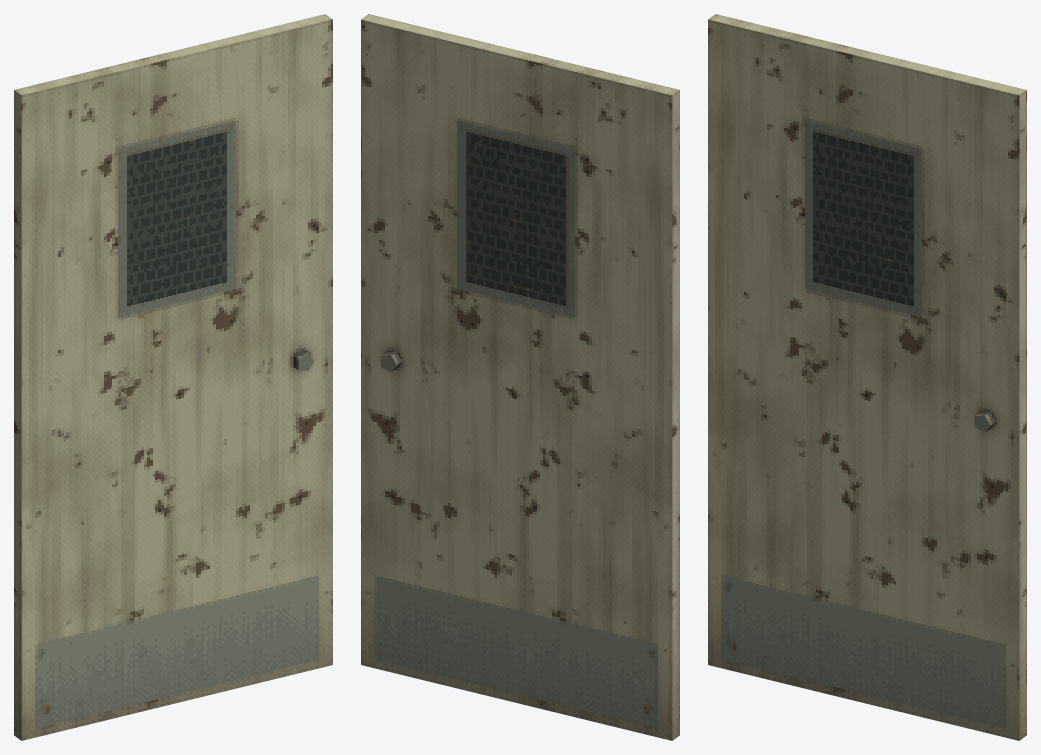
File: Door_Ward_01.glb
3 views of the same model, side by side, from view 1: azimuth 30°, elevation 25°; view 2: azimuth 150°, elevation 25°; view 3: azimuth 330°, elevation 25° (orthographic).
Parts seen in each view (by area): view 1: Door_Ward_01; view 2: Door_Ward_01; view 3: Door_Ward_01.
Boxes of the visible parts, <box> form: Door_Ward_01: <box>14,14,332,740</box>; Door_Ward_01: <box>361,14,679,740</box>; Door_Ward_01: <box>708,14,1026,740</box>.
Bounding box in the file's own units: 1.06 × 2.1 × 0.105.
1 material, 1 textured.
